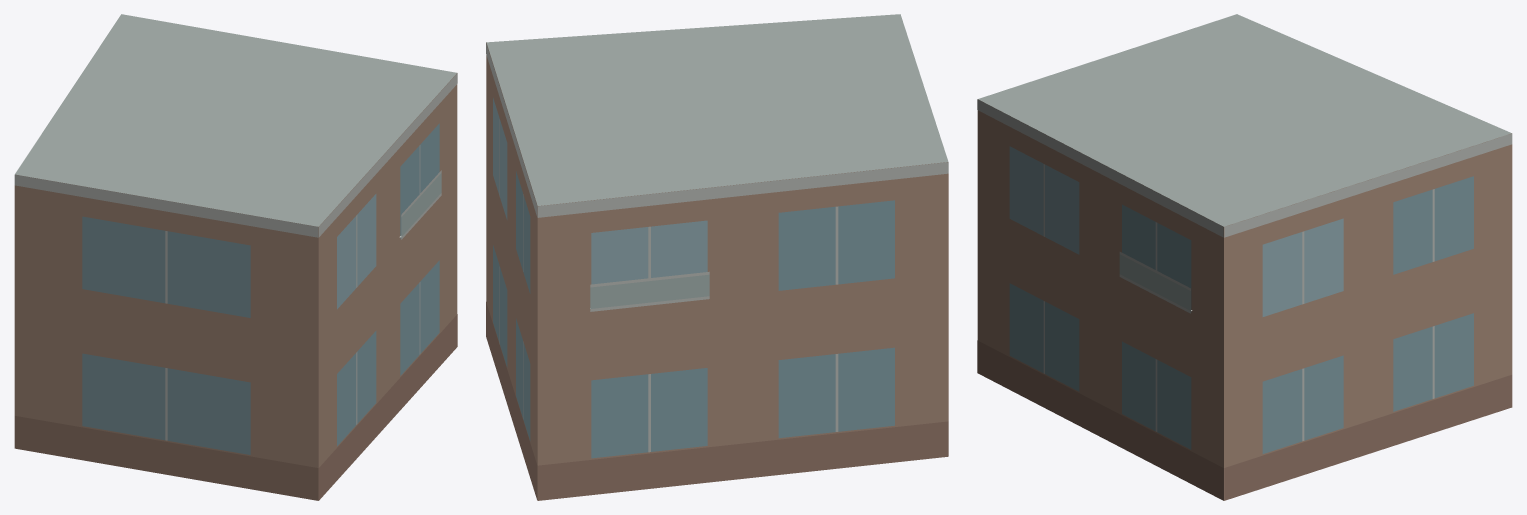
File: survey-upis-32643896.glb
3 renders of one model, left to right at view 1: azimuth 30°, elevation 25°; view 2: azimuth 150°, elevation 25°; view 3: azimuth 270°, elevation 25°, orthographic. The views are drawn at different scales.
Parts seen in each view (by area): view 1: survey-upis-32643896.tmp; view 2: survey-upis-32643896.tmp; view 3: survey-upis-32643896.tmp.
Part boxes in pixels (box(x1,y1,x2,y2)): survey-upis-32643896.tmp: box(14, 14, 457, 500); survey-upis-32643896.tmp: box(486, 14, 948, 500); survey-upis-32643896.tmp: box(977, 14, 1512, 500).
Size of the model in its own units: 10.17 by 6.1 by 10.8.
